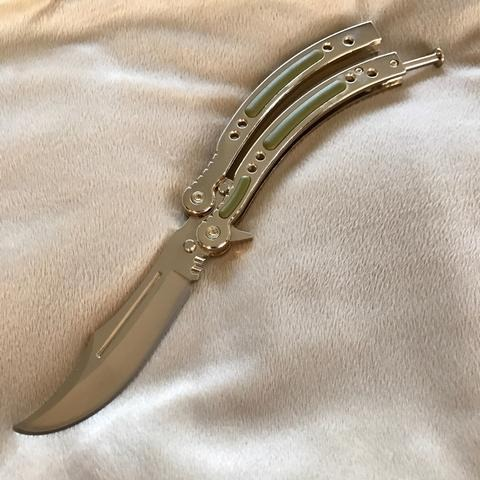knife: (13, 8, 446, 438)
